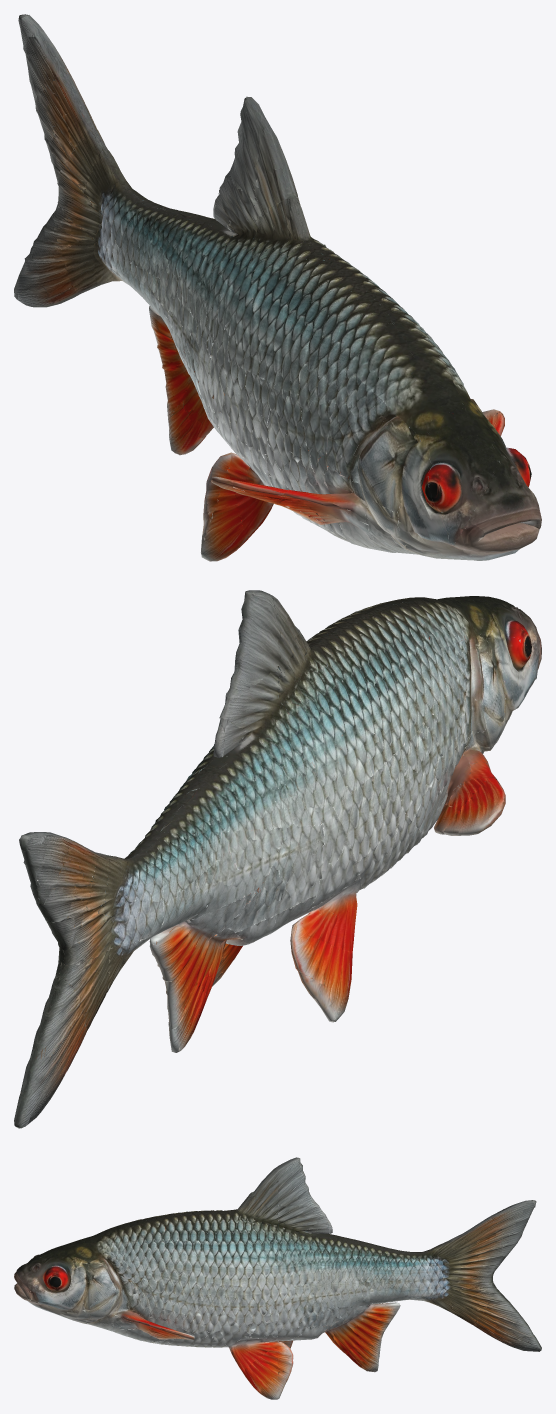
The model's file is ploc.glb.
3 renders of one model, top to bottom at view 1: azimuth 30°, elevation 25°; view 2: azimuth 150°, elevation 25°; view 3: azimuth 270°, elevation 25°, orthographic. The views are drawn at different scales.
Parts seen in each view (by area): view 1: Mesh_0; view 2: Mesh_0; view 3: Mesh_0.
Part boxes in pixels (box(x1,y1,x2,y2)): Mesh_0: box(14, 14, 541, 561); Mesh_0: box(14, 590, 541, 1128); Mesh_0: box(14, 1157, 541, 1399).
Bounding box in the file's own units: 0.6183 × 0.8966 × 1.9.
1 material, 1 textured.
